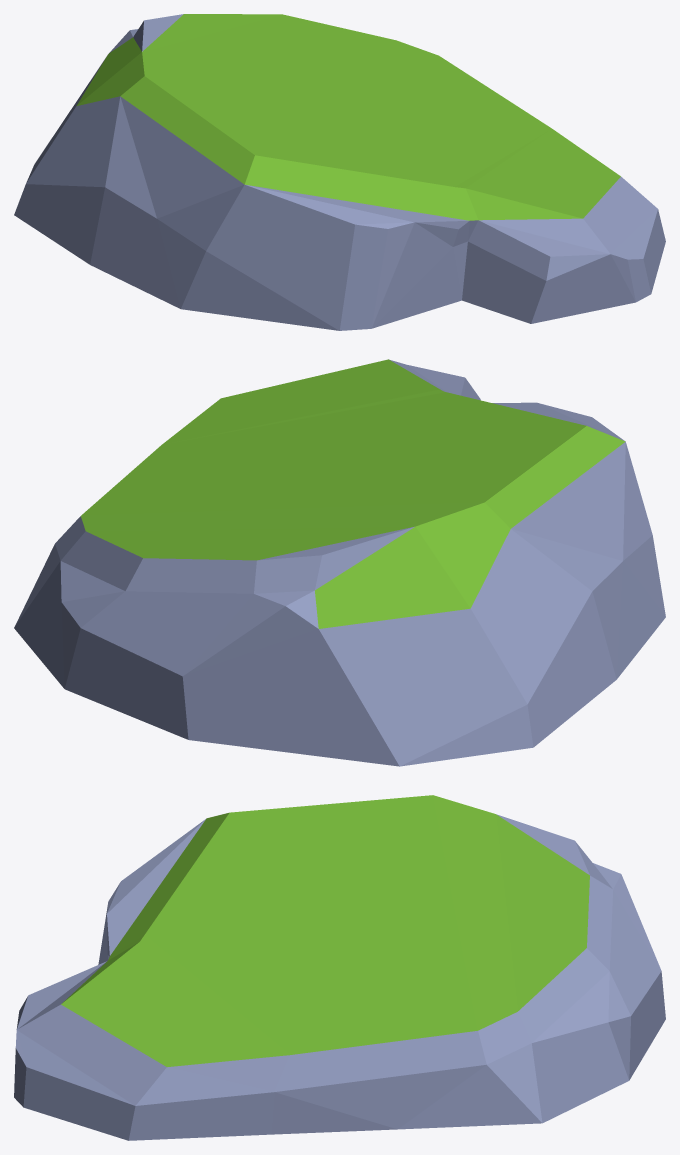
The model's file is Rock_15.fbx.
3 renders of one model, top to bottom at view 1: azimuth 30°, elevation 25°; view 2: azimuth 150°, elevation 25°; view 3: azimuth 270°, elevation 25°, orthographic. The views are drawn at different scales.
Parts seen in each view (by area): view 1: Rock_15; view 2: Rock_15; view 3: Rock_15.
Boxes of the visible parts, x1,y1,x2,y2 form: Rock_15: (14,14,665,330); Rock_15: (14,359,665,766); Rock_15: (14,795,665,1140).
Size of the model in its own units: 3.76 by 1.18 by 4.43.
